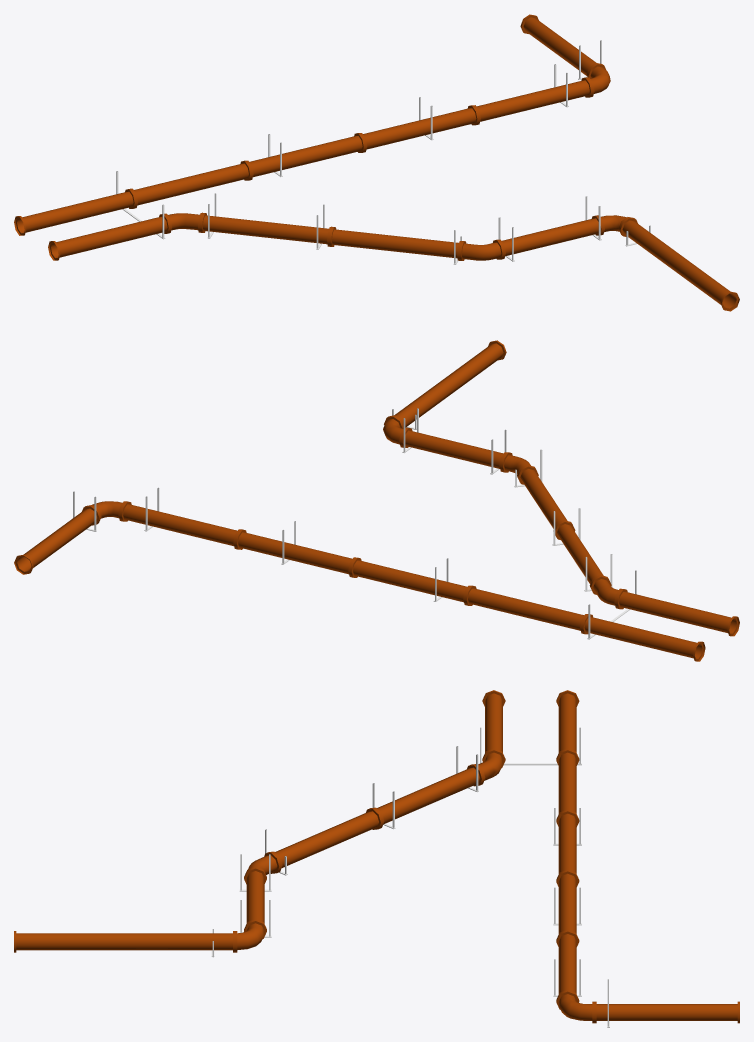
The model's file is SM_H_Building_Tide_Canteen_04A_ATLAS.fbx.
The picture shows the model from 3 angles, top to bottom: view 1: azimuth 30°, elevation 25°; view 2: azimuth 150°, elevation 25°; view 3: azimuth 270°, elevation 25°; orthographic projection. The views are drawn at different scales.
Parts seen in each view (by area): view 1: SM_H_Building_Tide_Canteen_04A_ATLAS; view 2: SM_H_Building_Tide_Canteen_04A_ATLAS; view 3: SM_H_Building_Tide_Canteen_04A_ATLAS.
Part boxes in pixels (x1=…): SM_H_Building_Tide_Canteen_04A_ATLAS: x1=14, y1=14, x2=739, y2=311; SM_H_Building_Tide_Canteen_04A_ATLAS: x1=14, y1=340, x2=739, y2=661; SM_H_Building_Tide_Canteen_04A_ATLAS: x1=14, y1=690, x2=739, y2=1027.
Size of the model in its own units: 3531 by 3403 by 196.
